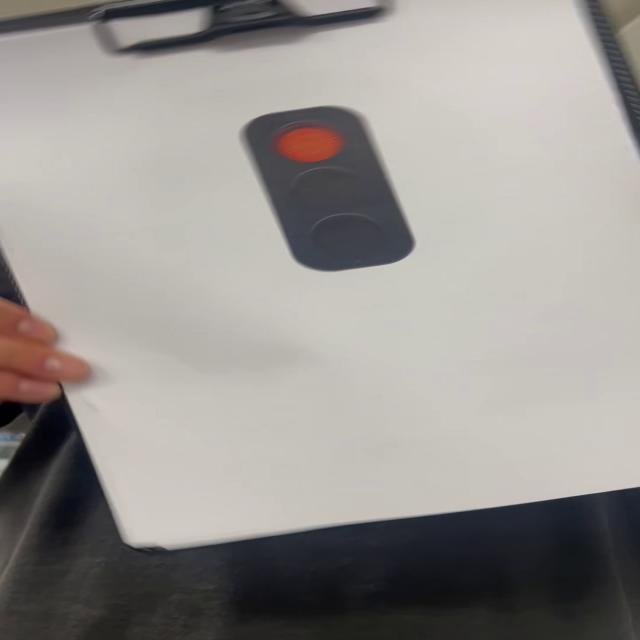red: (237, 108, 429, 276)
